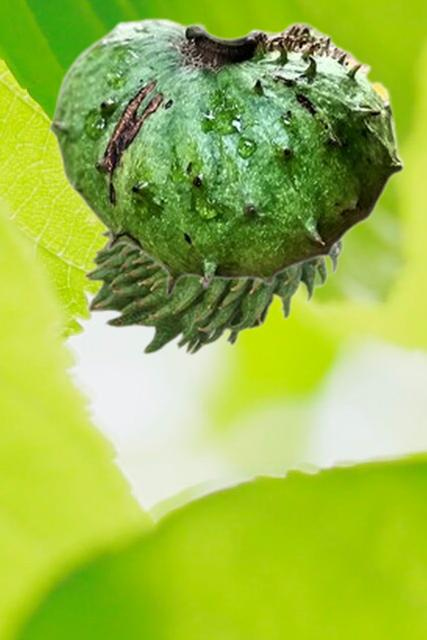guyabano: (48, 17, 404, 298), (81, 229, 347, 355)
